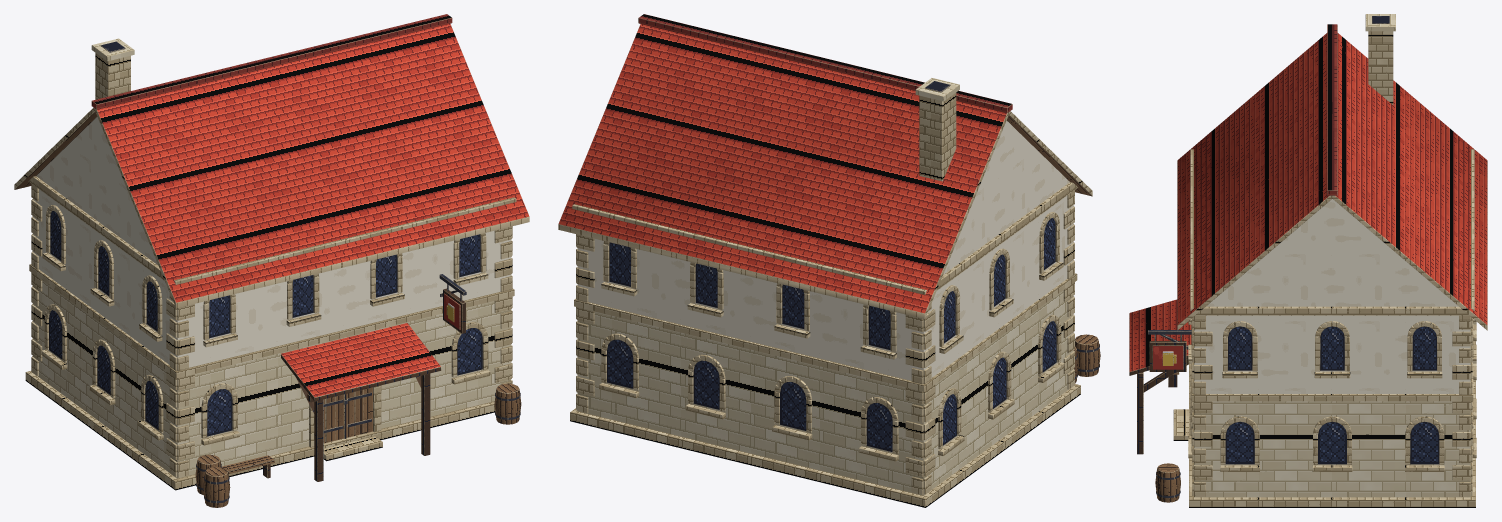
Rendered from tavern_0.glb.
The picture shows the model from 3 angles, left to right: view 1: azimuth 30°, elevation 25°; view 2: azimuth 150°, elevation 25°; view 3: azimuth 270°, elevation 25°; orthographic projection. The views are drawn at different scales.
Parts seen in each view (by area): view 1: tavern_1; view 2: tavern_1; view 3: tavern_1.
Part boxes in pixels (x1,y1,x2,y2): tavern_1: (14,14,529,507); tavern_1: (558,14,1100,507); tavern_1: (1129,14,1487,507).
Size of the model in its own units: 10.66 by 10.34 by 9.7.
16 materials, 16 textured.
